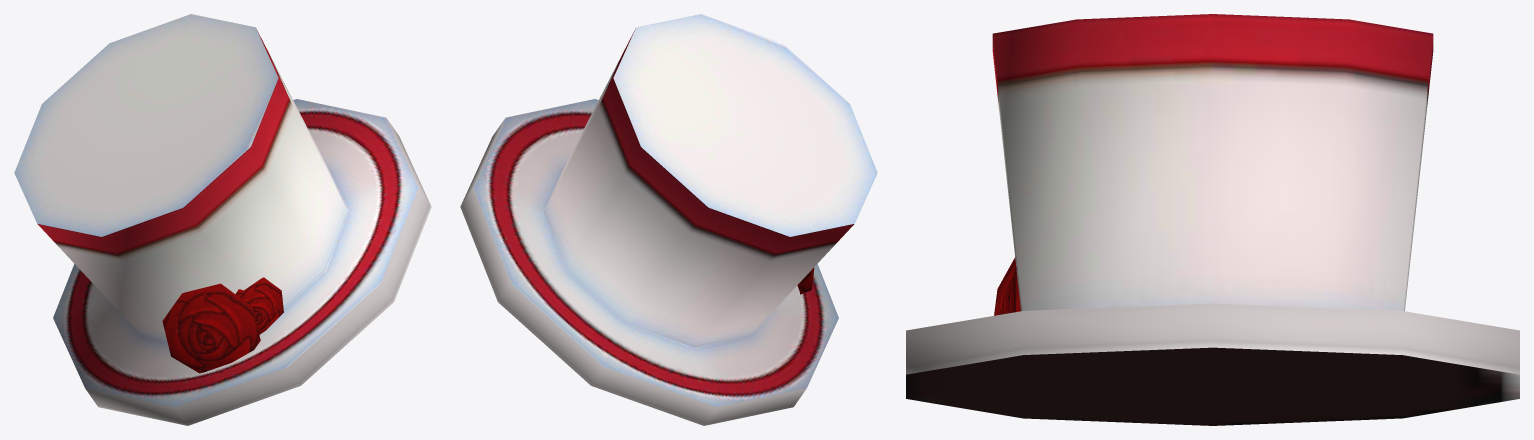
Rendered from helm0079.fbx.
3 views of the same model, side by side, from view 1: azimuth 30°, elevation 25°; view 2: azimuth 150°, elevation 25°; view 3: azimuth 270°, elevation 25° (orthographic). The views are drawn at different scales.
Visible parts, largest first — view 1: helm0079_m; view 2: helm0079_m; view 3: helm0079_m.
Part boxes in pixels (bbox=[...]): helm0079_m: bbox=[14, 14, 431, 425]; helm0079_m: bbox=[460, 14, 877, 425]; helm0079_m: bbox=[906, 14, 1519, 425].
Size of the model in its own units: 0.1487 by 0.134 by 0.1402.
Materials: 1 (1 with a texture image).
